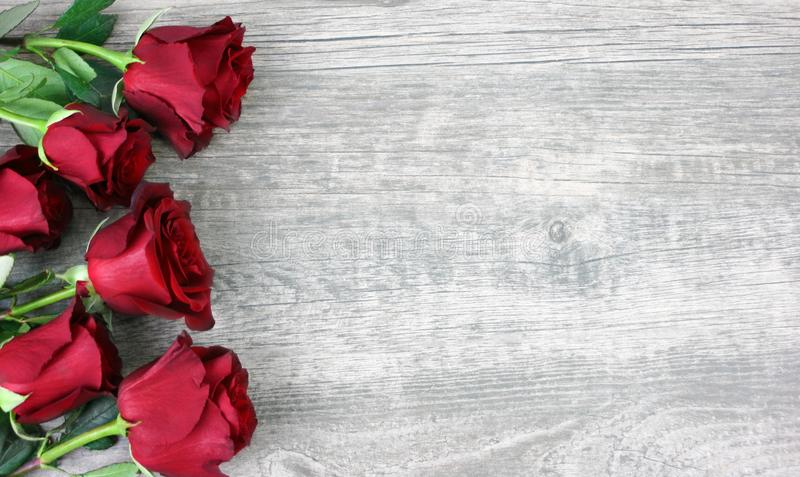RedRose: (106, 334, 279, 477), (82, 185, 226, 323), (125, 11, 261, 150), (0, 288, 109, 440), (38, 87, 151, 192), (0, 133, 75, 270)
